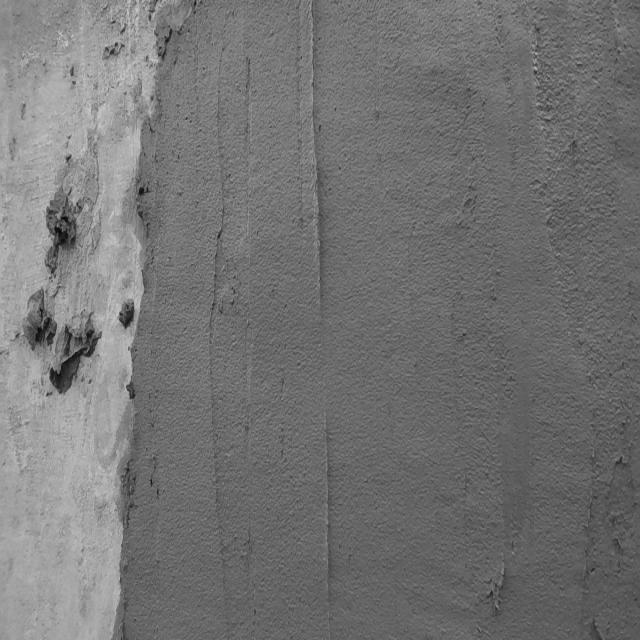trowels marks: (301, 2, 332, 640)
